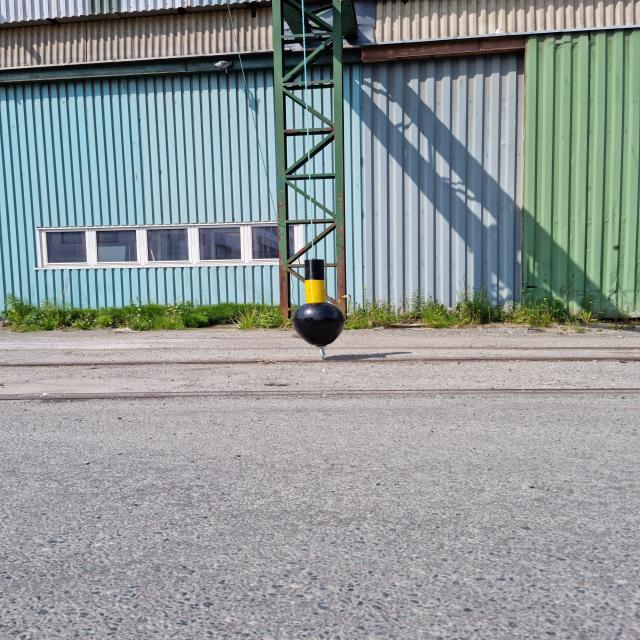east: (292, 259, 346, 348)
